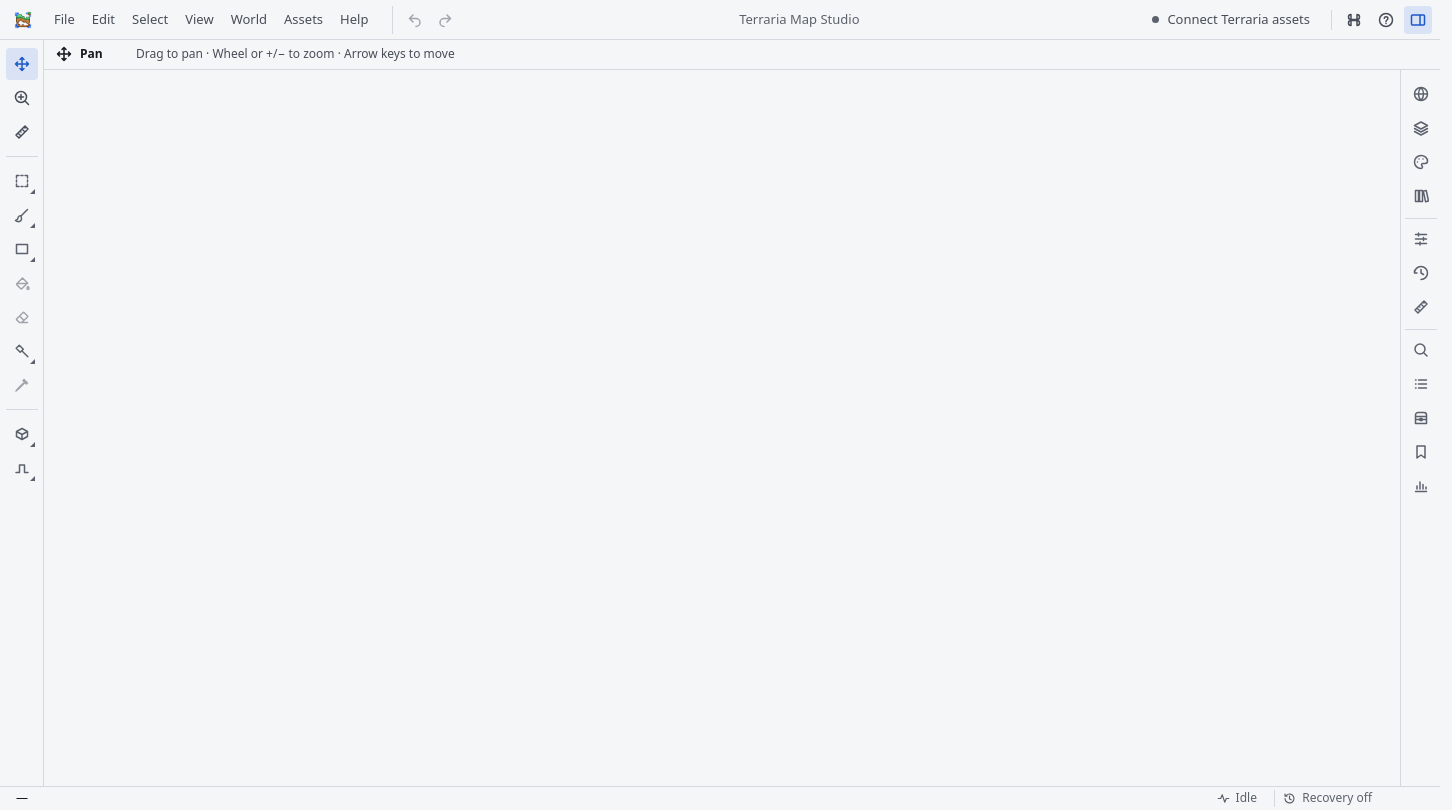
Test: a family with nothing available yet opens its list on click, instead of doing nothing
Click the button named "Rectangle".
click(22, 249)  # box left=6, top=233, right=38, bottom=265
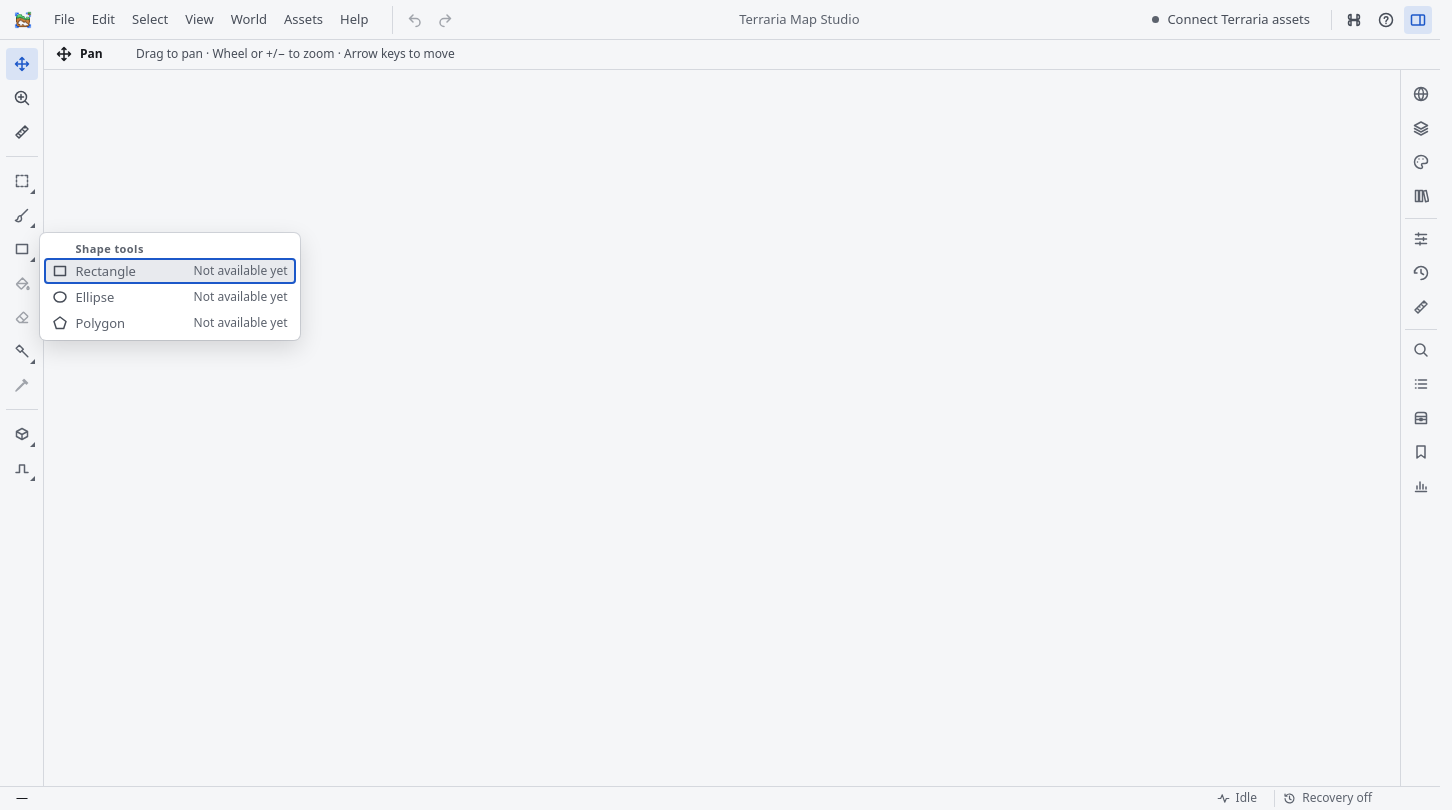
Now the menu "Shape tools" is shown, box left=40, top=233, right=300, bottom=340
